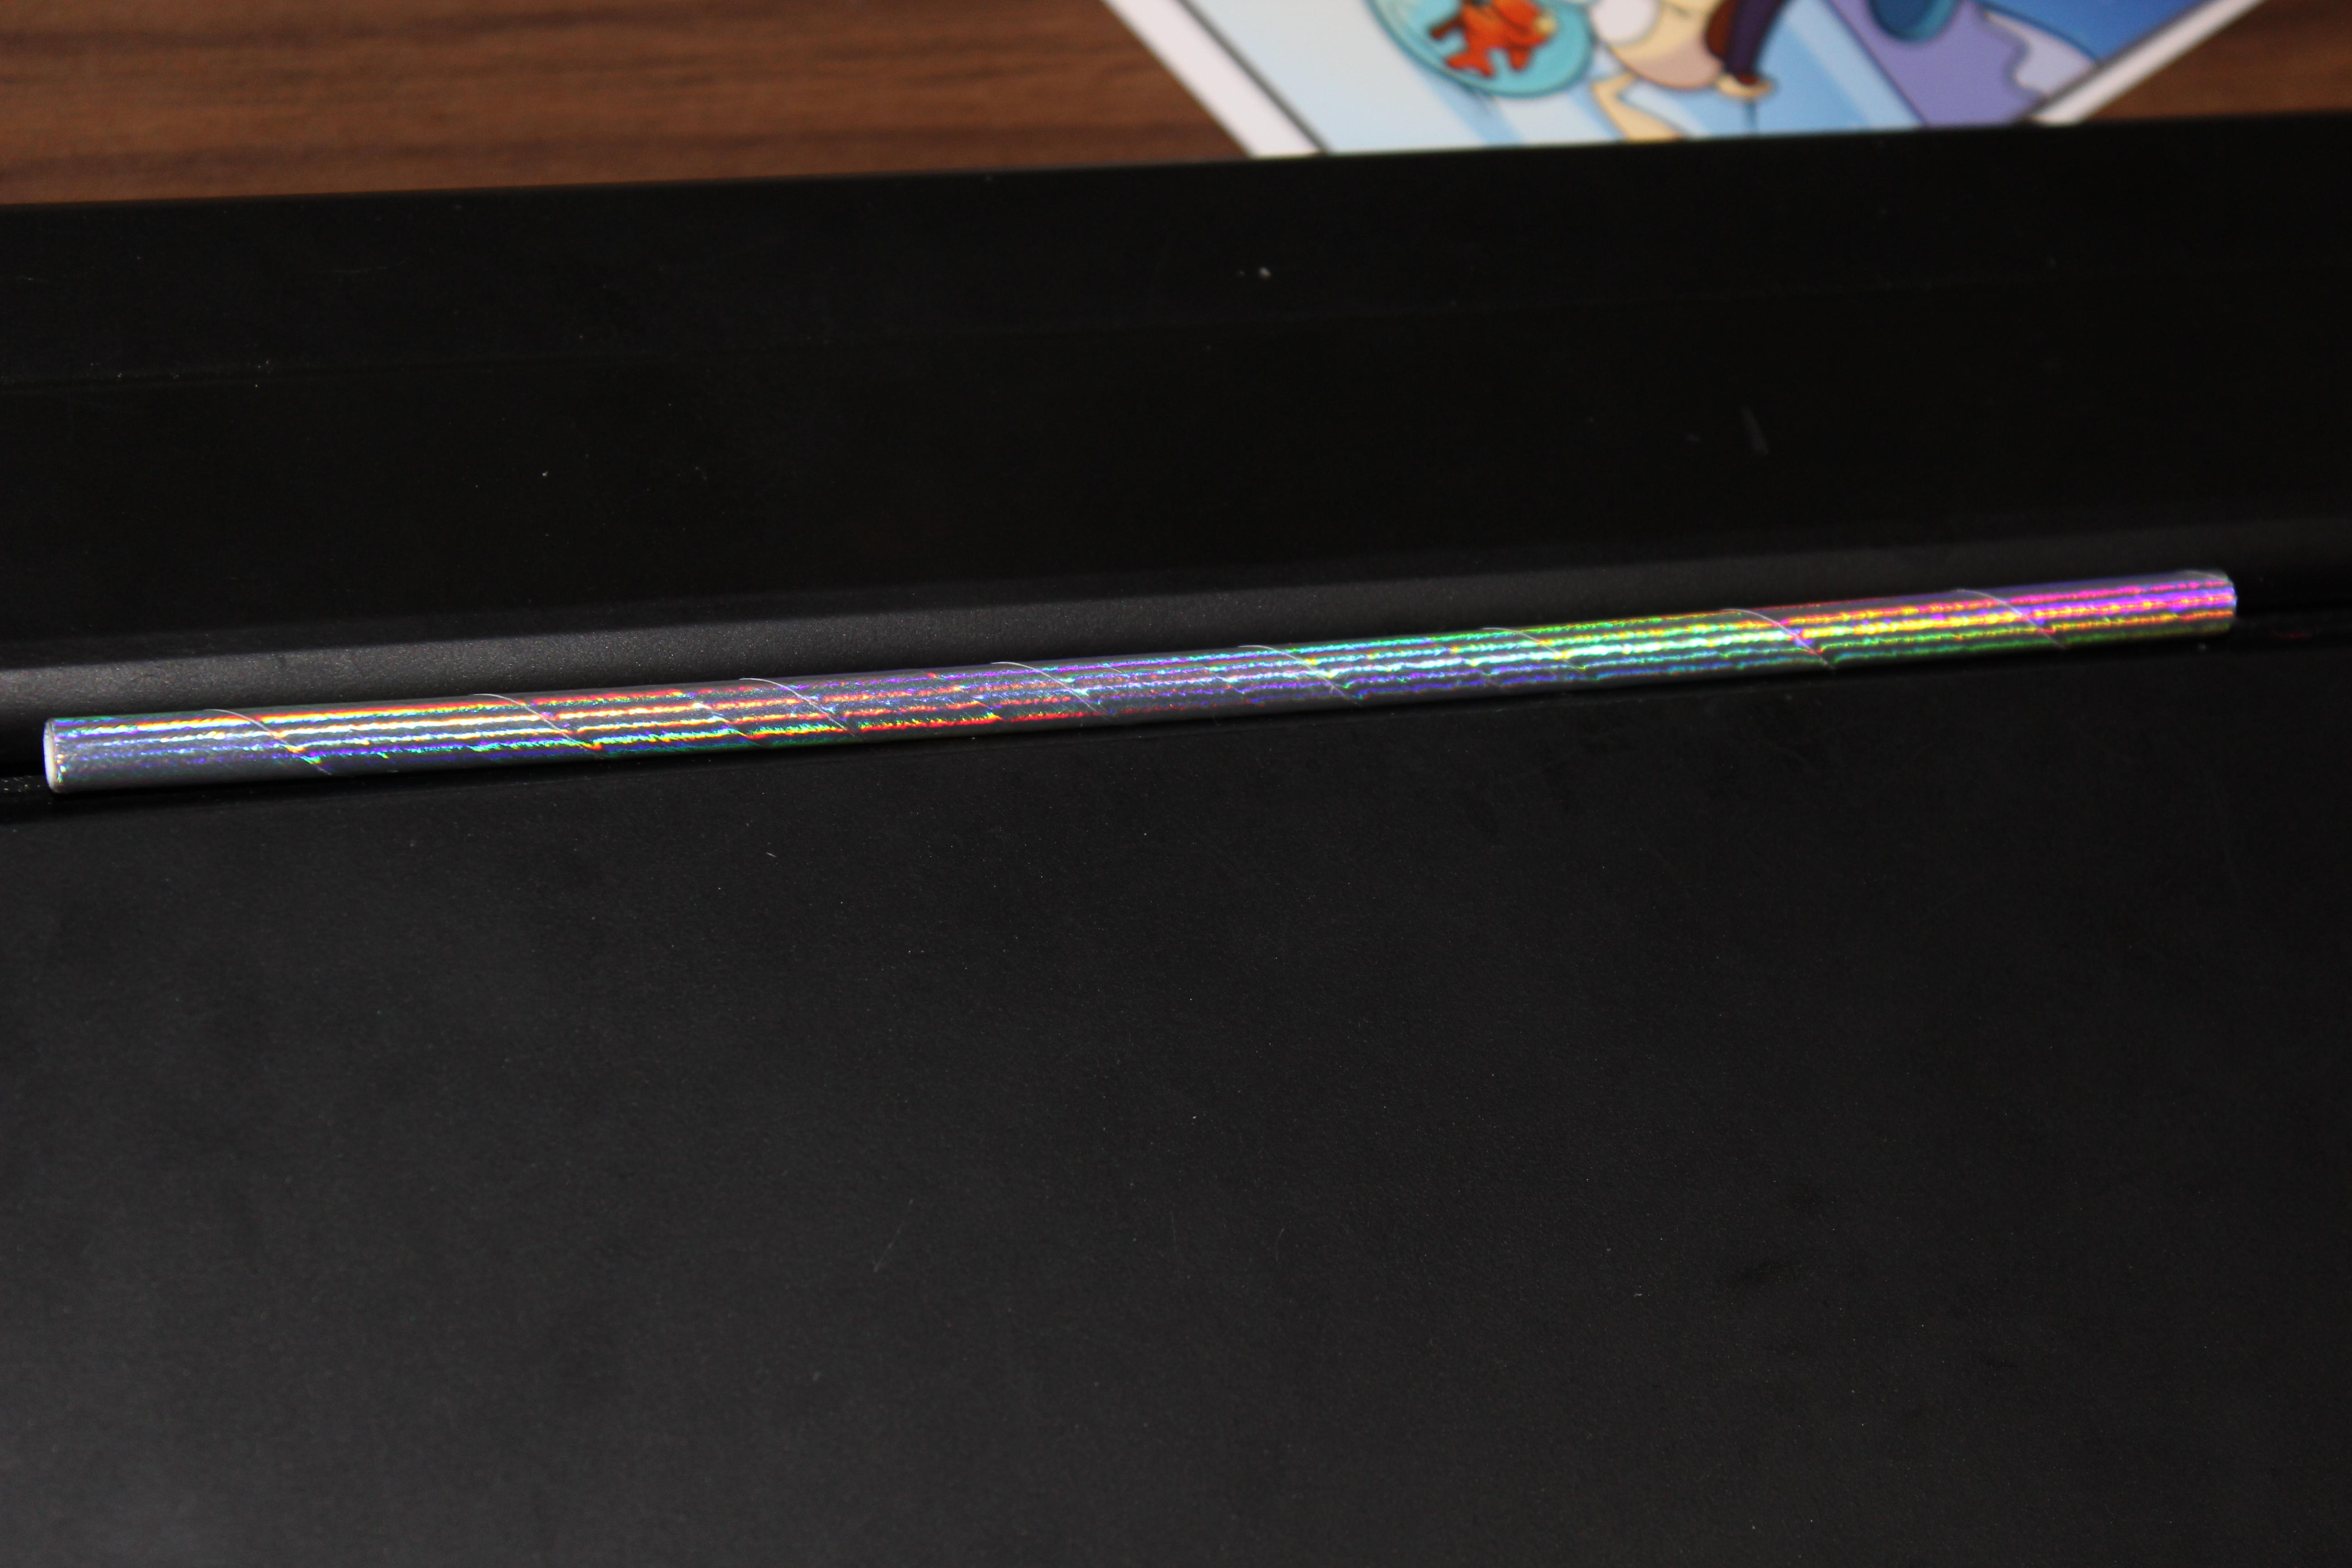silverStraw: (19, 513, 2275, 837)
